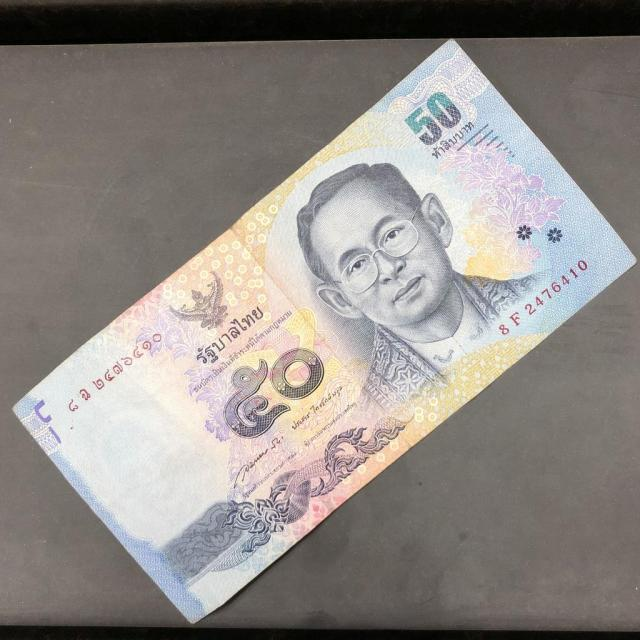THAI50: (14, 41, 634, 621)
